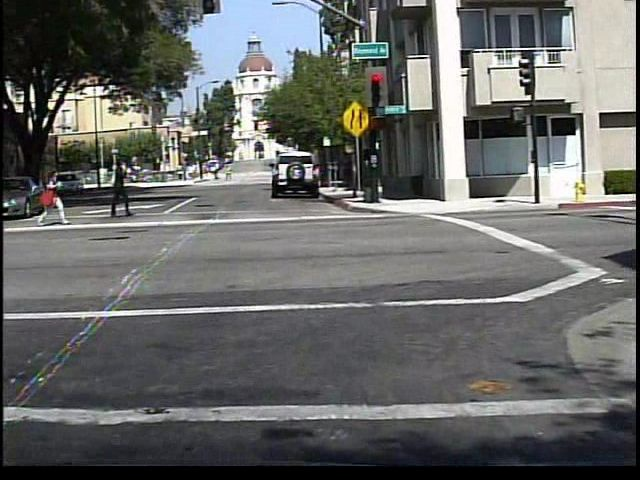person: (98, 157, 136, 222), (34, 163, 66, 229), (220, 164, 231, 184), (209, 166, 219, 185)
